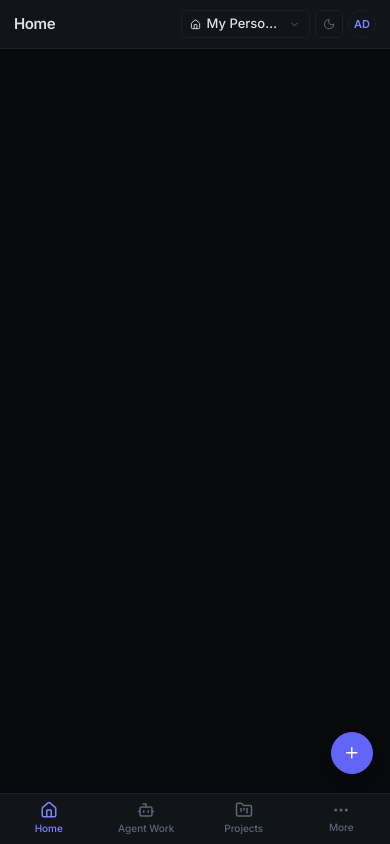
Test: Shell mobile tab bar › lists Home, Agent Work, Projects and More with secondary destinations in More
Expected: the link "Home" is shown, 35,801 -> 63,834
Expected: the link "Agent Work" is shown, 118,801 -> 174,834
Click the button "More" at [341, 819], box 292,794 -> 389,843
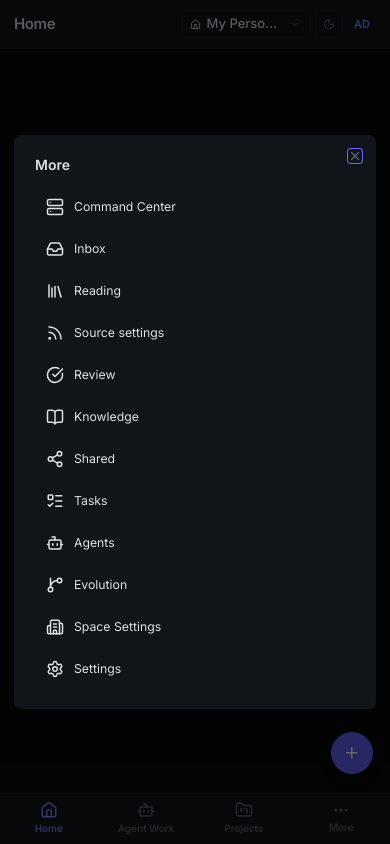
Result: the link "Inbox" is shown at 46,240 -> 106,258
Result: the link "Reading" is shown at 46,282 -> 121,300
Result: the link "Review" is shown at 46,366 -> 115,384
